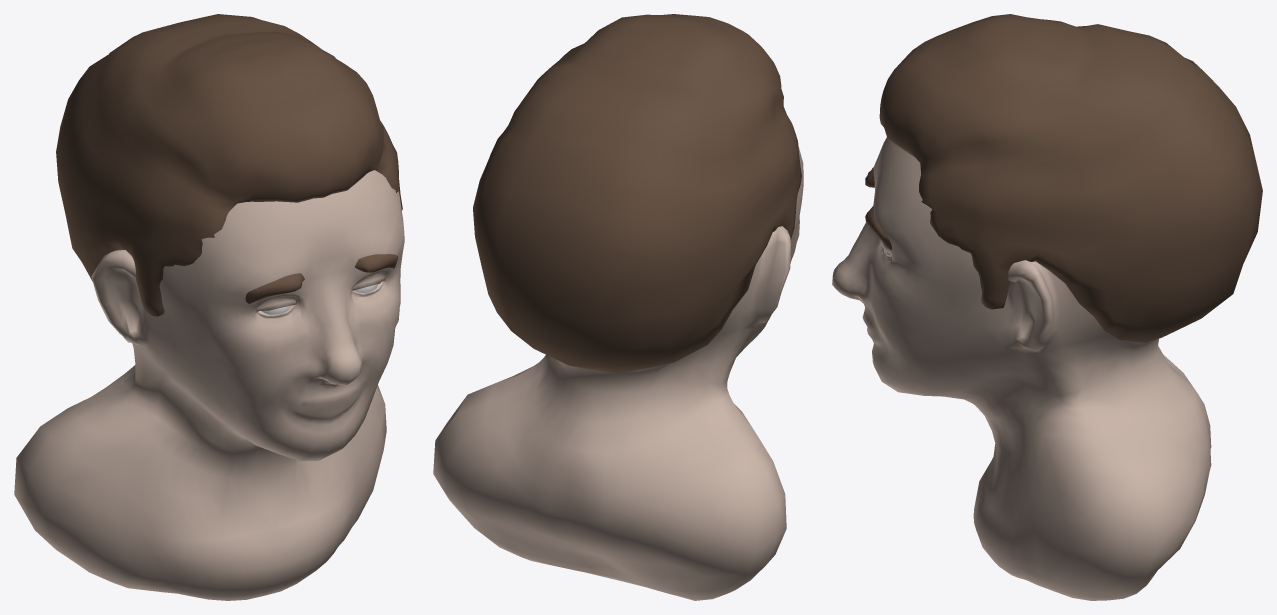
The model's file is Character Bust v1.fbx.
3 views of the same model, side by side, from view 1: azimuth 30°, elevation 25°; view 2: azimuth 150°, elevation 25°; view 3: azimuth 270°, elevation 25° (orthographic). The views are drawn at different scales.
Parts seen in each view (by area): view 1: polySurface35, polySurface34, polySurface30; view 2: polySurface34, polySurface35; view 3: polySurface34, polySurface35.
Boxes of the visible parts, x1,y1,x2,y2 form: polySurface35: (14, 170, 404, 600); polySurface34: (56, 14, 402, 316); polySurface30: (245, 254, 397, 303); polySurface34: (473, 14, 801, 373); polySurface35: (433, 146, 803, 600); polySurface34: (879, 14, 1262, 342); polySurface35: (832, 137, 1211, 600).
Size of the model in its own units: 143 by 215 by 158.
